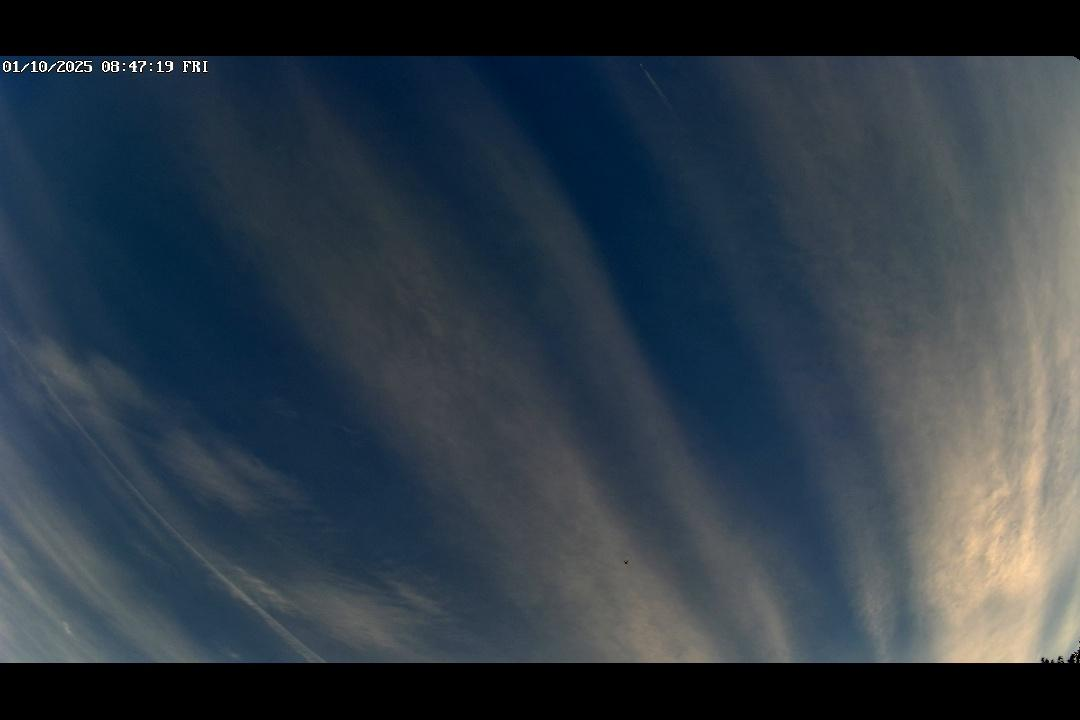Plane: (637, 62, 674, 110)
WildLife: (614, 555, 637, 569)
